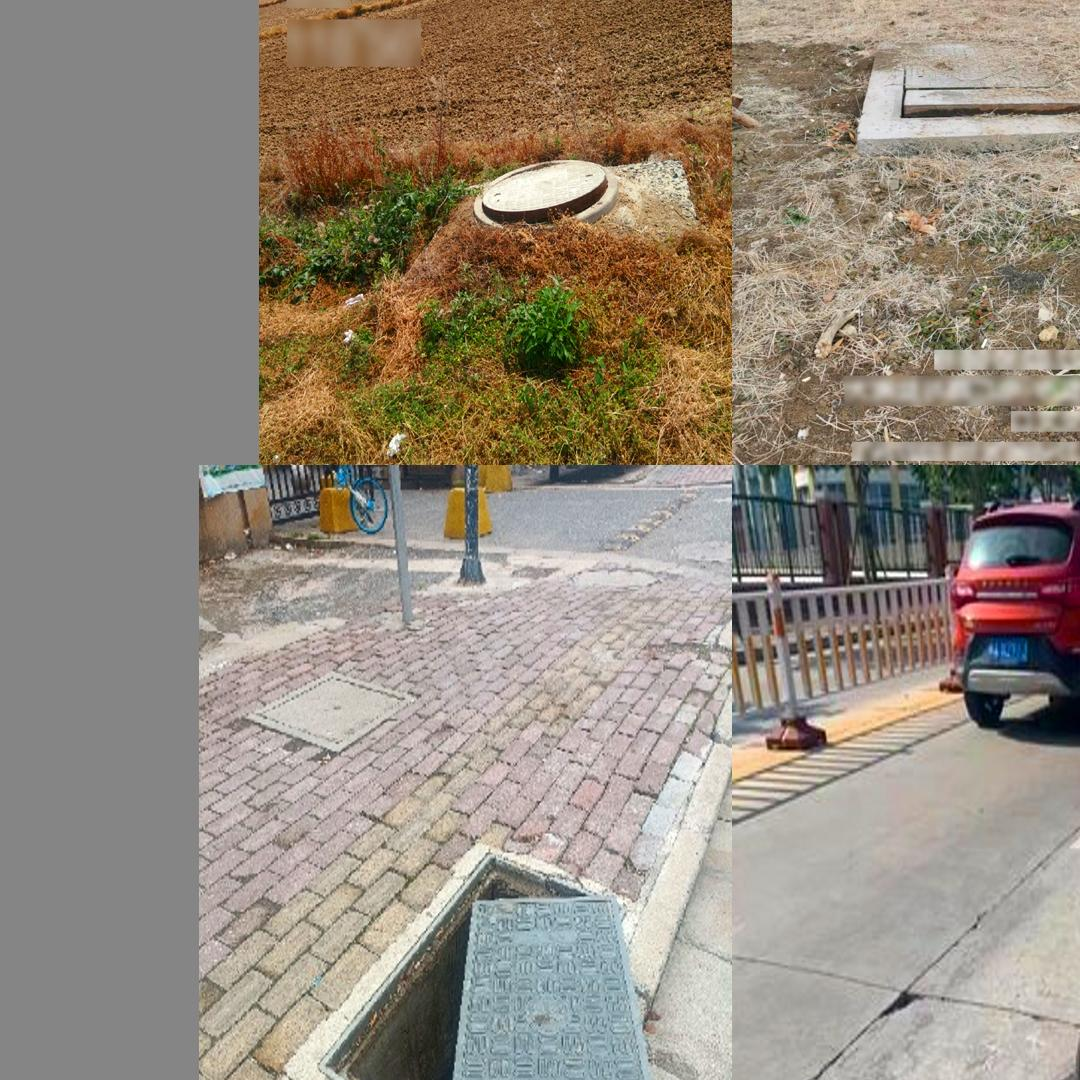good: (240, 671, 416, 755)
uncovered: (287, 835, 675, 1080), (893, 40, 1080, 124), (1016, 925, 1080, 1080), (473, 160, 617, 227)
